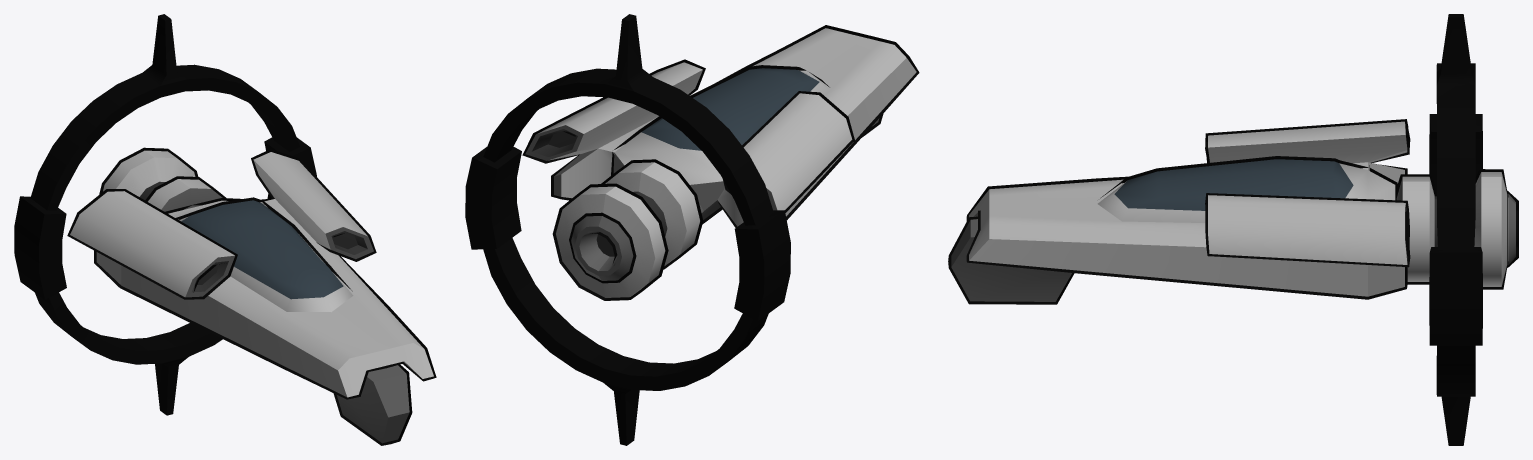
Rendered from RiftPiloteerS1.fbx.
3 views of the same model, side by side, from view 1: azimuth 30°, elevation 25°; view 2: azimuth 150°, elevation 25°; view 3: azimuth 270°, elevation 25° (orthographic). The views are drawn at different scales.
Visible parts, largest first — view 1: Cube, Cube.001; view 2: Cube, Cube.001; view 3: Cube, Cube.001.
Boxes of the visible parts, box(x1,y1,x2,y2) form: Cube: box(67, 147, 436, 445); Cube.001: box(14, 14, 316, 415); Cube: box(522, 25, 919, 300); Cube.001: box(465, 14, 790, 445); Cube: box(948, 119, 1518, 304); Cube.001: box(1429, 14, 1482, 445).
Size of the model in its own units: 657 by 894 by 1080.
